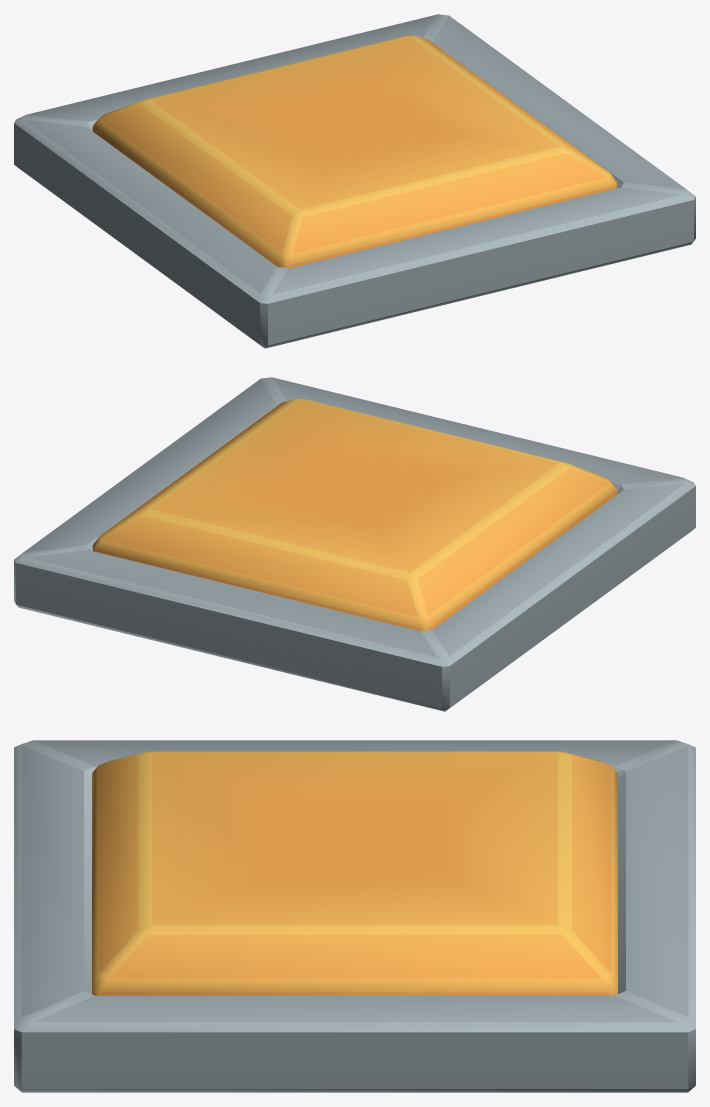
The model's file is button_base_yellow.glb.
The picture shows the model from 3 angles, top to bottom: view 1: azimuth 30°, elevation 25°; view 2: azimuth 150°, elevation 25°; view 3: azimuth 270°, elevation 25°; orthographic projection. The views are drawn at different scales.
Visible parts, largest first — view 1: button_yellow, button_base_yellow; view 2: button_yellow, button_base_yellow; view 3: button_yellow, button_base_yellow.
Part boxes in pixels (bbox=[...]): button_yellow: bbox=[92, 35, 617, 268]; button_base_yellow: bbox=[14, 14, 695, 348]; button_yellow: bbox=[92, 398, 617, 631]; button_base_yellow: bbox=[14, 377, 695, 711]; button_yellow: bbox=[92, 751, 617, 995]; button_base_yellow: bbox=[14, 740, 695, 1092].
Bounding box in the file's own units: 1.75 × 0.32 × 1.75.
Materials: 1 (1 with a texture image).
